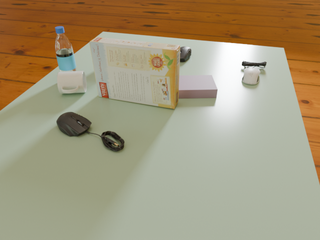book: (179, 75, 218, 98)
bottle: (55, 26, 77, 72)
box: (90, 37, 180, 109)
cup: (57, 71, 86, 94)
mouse: (57, 112, 91, 136), (242, 67, 260, 85), (180, 47, 191, 61)
